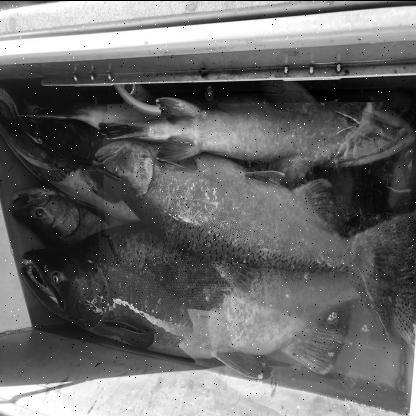fish: (86, 134, 415, 353), (14, 220, 412, 382), (95, 87, 408, 188)
